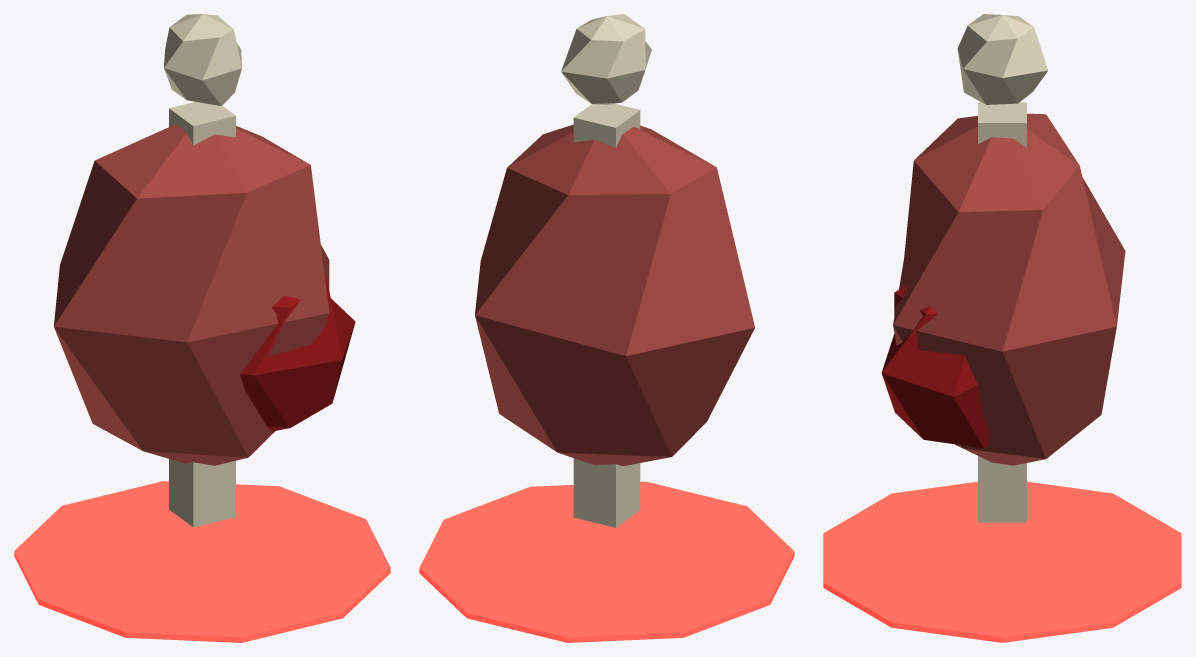
File: SM_Item_Carne.glb
3 renders of one model, left to right at view 1: azimuth 30°, elevation 25°; view 2: azimuth 150°, elevation 25°; view 3: azimuth 270°, elevation 25°, orthographic.
Visible parts, largest first — view 1: Item, SM_Item_Carne; view 2: Item, SM_Item_Carne; view 3: Item, SM_Item_Carne.
Part boxes in pixels (left/top/right/bottom): Item: left=54, top=14, right=355, bottom=527; SM_Item_Carne: left=14, top=481, right=390, bottom=642; Item: left=475, top=14, right=754, bottom=527; SM_Item_Carne: left=419, top=481, right=794, bottom=642; Item: left=881, top=14, right=1125, bottom=522; SM_Item_Carne: left=823, top=481, right=1181, bottom=642.
Bounding box in the file's own units: 0.5 × 0.803 × 0.4755.
Materials: 1 (1 with a texture image).
